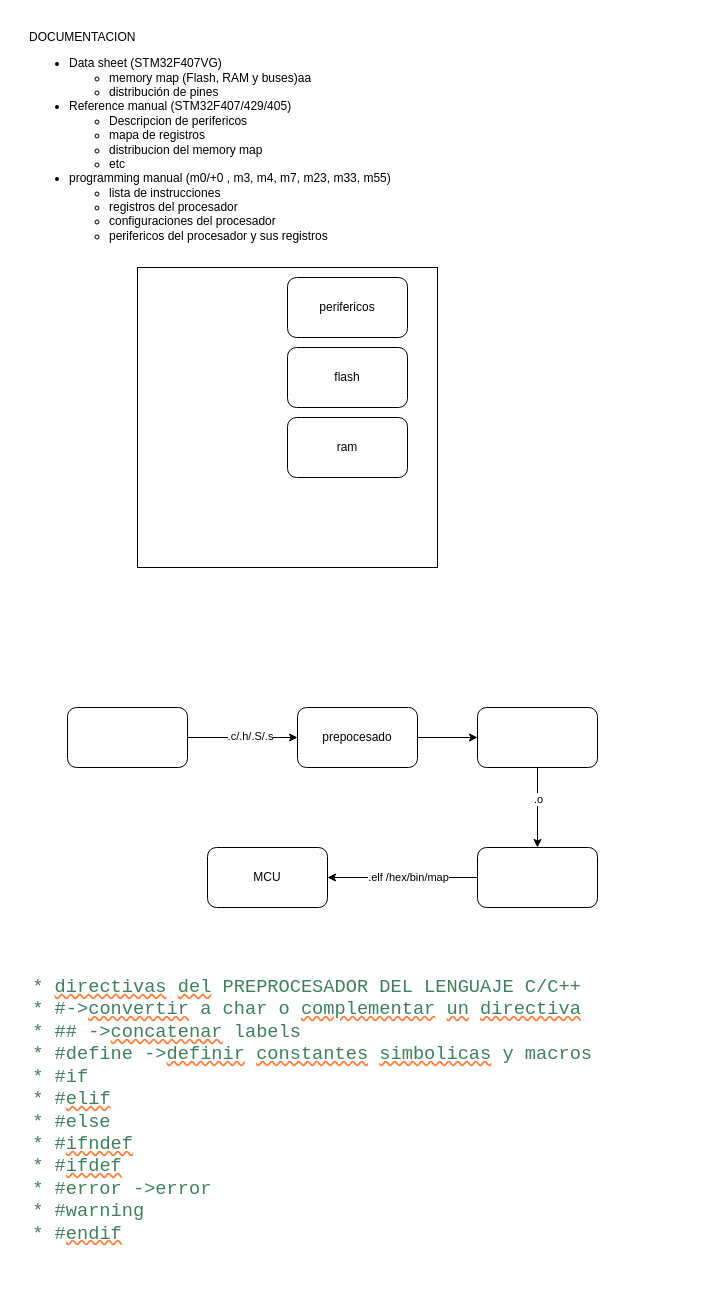
This 714x1292 diagram has some shape labels left out. The shapes that lost their labels are listed below. From the top down, each one's box as (x1, y1, x2, y2) in pixels, then its label:
(66, 706, 188, 768): GNU (GCC)
(476, 706, 598, 768): compilacion
(476, 846, 598, 908): linker
